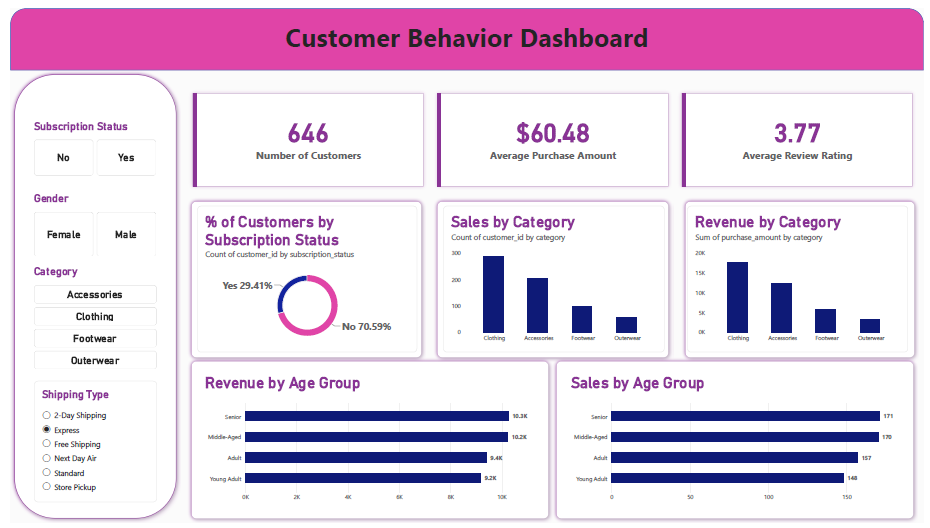

What the dashboard file says about the page in this screenshot:
{"tool":"powerbi","page":{"name":"Page 1","canvas":[1920,1080],"ordinal":0},"visuals":[{"type":"cardVisual","fields":{"Data":["public customer.Number of Customers","public customer.Average Purchase Amount","public customer.Average Review Rating"]},"box":[372.5,167.5,1535,217.5],"z":0},{"type":"shape","box":[0,0,1920,130],"z":1000},{"type":"textbox","box":[0,23.3,1920,106.7],"z":2000},{"type":"shape","box":[1410,397.5,497.5,345],"z":3000},{"type":"shape","box":[890,397.5,502.5,345],"z":4000},{"type":"shape","box":[372.5,397.5,500,345],"z":5000},{"type":"donutChart","title":"% of Customers by Subscription Status","fields":{"Category":["public customer.subscription_status"],"Y":["CountNonNull(public customer.customer_id)"]},"box":[392.5,415,462.5,307.5],"z":6000},{"type":"clusteredColumnChart","title":"Revenue by Category","fields":{"Category":["public customer.category"],"Y":["Sum(public customer.purchase_amount)"]},"box":[1423.3,415,463.3,308.3],"z":7000},{"type":"clusteredColumnChart","title":"Sales by Category","fields":{"Category":["public customer.category"],"Y":["CountNonNull(public customer.customer_id)"]},"box":[910,415,465,307.5],"z":8000},{"type":"shape","box":[0,130,356.7,950],"z":9000},{"type":"advancedSlicerVisual","title":"Subscription Status","fields":{"Values":["public customer.subscription_status"]},"box":[50,234.4,257.8,117.8],"z":10000},{"type":"advancedSlicerVisual","title":"Gender","fields":{"Values":["public customer.gender"]},"box":[50,385.6,257.8,135.6],"z":11000},{"type":"advancedSlicerVisual","title":"Category","fields":{"Values":["public customer.category"]},"box":[50,540,257.8,218.9],"z":12000},{"type":"listSlicer","title":"Shipping Type","fields":{"Values":["public customer.shipping_type"]},"box":[50,783.3,257.8,254.4],"z":13000},{"type":"shape","box":[373.3,733.3,766.7,346.7],"z":14000},{"type":"clusteredBarChart","title":"Revenue by Age Group","fields":{"Category":["public customer.age_group"],"Y":["Sum(public customer.purchase_amount)"]},"box":[393.3,755,720,301.7],"z":15000},{"type":"shape","box":[1140,733.3,766.7,346.7],"z":15001},{"type":"clusteredBarChart","title":"Sales by Age Group","fields":{"Category":["public customer.age_group"],"Y":["CountNonNull(public customer.customer_id)"]},"box":[1163.3,755,720,301.7],"z":15002}]}

Visuals, with their boxes in screenshot pixels (x1, y1, x2, y2), scaled from the page's 1920x1080 canvas onto the 930x528 screenshot:
cardVisual - public customer.Number of Customers x public customer.Average Purchase Amount: 180, 82, 924, 188
shape: 0, 0, 929, 64
textbox: 0, 11, 929, 64
shape: 683, 194, 924, 363
shape: 431, 194, 674, 363
shape: 180, 194, 423, 363
"% of Customers by Subscription Status" donutChart: 190, 203, 414, 353
"Revenue by Category" clusteredColumnChart: 689, 203, 914, 354
"Sales by Category" clusteredColumnChart: 441, 203, 666, 353
shape: 0, 64, 173, 527
"Subscription Status" advancedSlicerVisual: 24, 115, 149, 172
"Gender" advancedSlicerVisual: 24, 189, 149, 255
"Category" advancedSlicerVisual: 24, 264, 149, 371
"Shipping Type" listSlicer: 24, 383, 149, 507
shape: 181, 359, 552, 527
"Revenue by Age Group" clusteredBarChart: 191, 369, 539, 517
shape: 552, 359, 924, 527
"Sales by Age Group" clusteredBarChart: 563, 369, 912, 517
